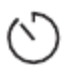timer: (1, 4, 69, 74)
